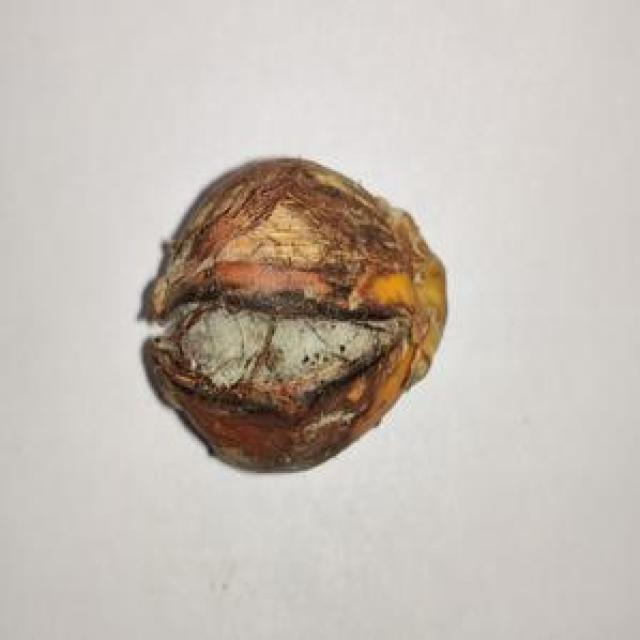damaged: (141, 158, 445, 471)
